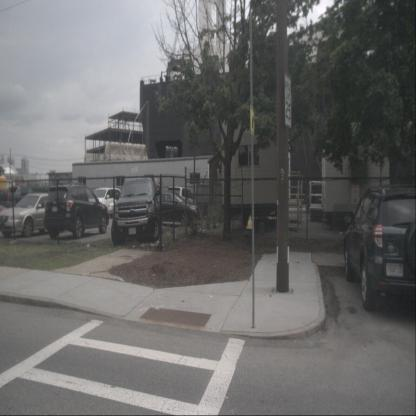vehicle-car: (344, 184, 416, 312), (43, 184, 109, 238), (0, 192, 60, 237), (144, 193, 200, 224), (85, 188, 122, 218), (164, 186, 196, 216)
vehicle-truck: (111, 178, 162, 246), (0, 185, 37, 214)
